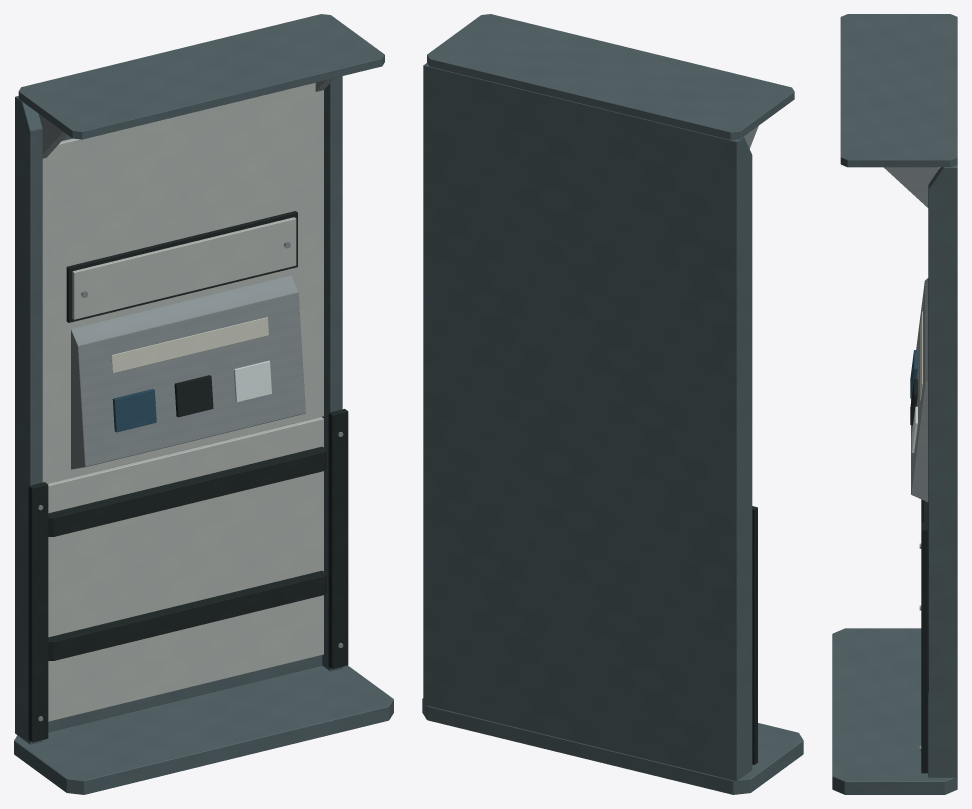
File: AST-LND-003.glb
3 views of the same model, side by side, from view 1: azimuth 30°, elevation 25°; view 2: azimuth 150°, elevation 25°; view 3: azimuth 270°, elevation 25° (orthographic). The views are drawn at different scales.
Parts seen in each view (by area): view 1: AST-LND-003__staff_white_paint, AST-LND-003__staff_bluegrey_paint, AST-LND-003__staff_rubber, AST-LND-003__staff_zinc, AST-LND-003__003_service_legend_plaque, AST-LND-003__003_attention_request_pad, AST-LND-003__003_inspection_key_cover, AST-LND-003__003_status_flag_surface; view 2: AST-LND-003__staff_bluegrey_paint, AST-LND-003__staff_rubber; view 3: AST-LND-003__staff_bluegrey_paint, AST-LND-003__staff_zinc, AST-LND-003__staff_rubber, AST-LND-003__003_inspection_key_cover.
Boxes of the visible parts, x1,y1,x2,y2 form: AST-LND-003__staff_white_paint: (42, 82, 323, 721); AST-LND-003__staff_bluegrey_paint: (14, 14, 393, 794); AST-LND-003__staff_rubber: (28, 211, 348, 742); AST-LND-003__staff_zinc: (38, 78, 343, 721); AST-LND-003__003_service_legend_plaque: (111, 317, 268, 373); AST-LND-003__003_attention_request_pad: (112, 389, 156, 432); AST-LND-003__003_inspection_key_cover: (174, 375, 213, 417); AST-LND-003__003_status_flag_surface: (233, 360, 271, 402); AST-LND-003__staff_bluegrey_paint: (422, 14, 803, 794); AST-LND-003__staff_rubber: (752, 506, 757, 764); AST-LND-003__staff_bluegrey_paint: (832, 14, 957, 794); AST-LND-003__staff_zinc: (884, 167, 938, 750); AST-LND-003__staff_rubber: (921, 499, 928, 773); AST-LND-003__003_inspection_key_cover: (910, 378, 917, 425).
Size of the model in its own units: 1.3 by 2.5 by 0.45.
Materials: 7 (7 with a texture image).
